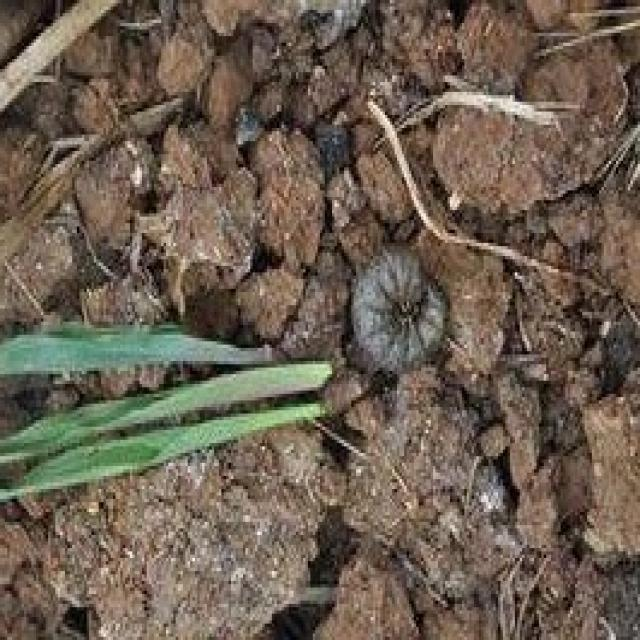black cutworm: (322, 242, 455, 370)
